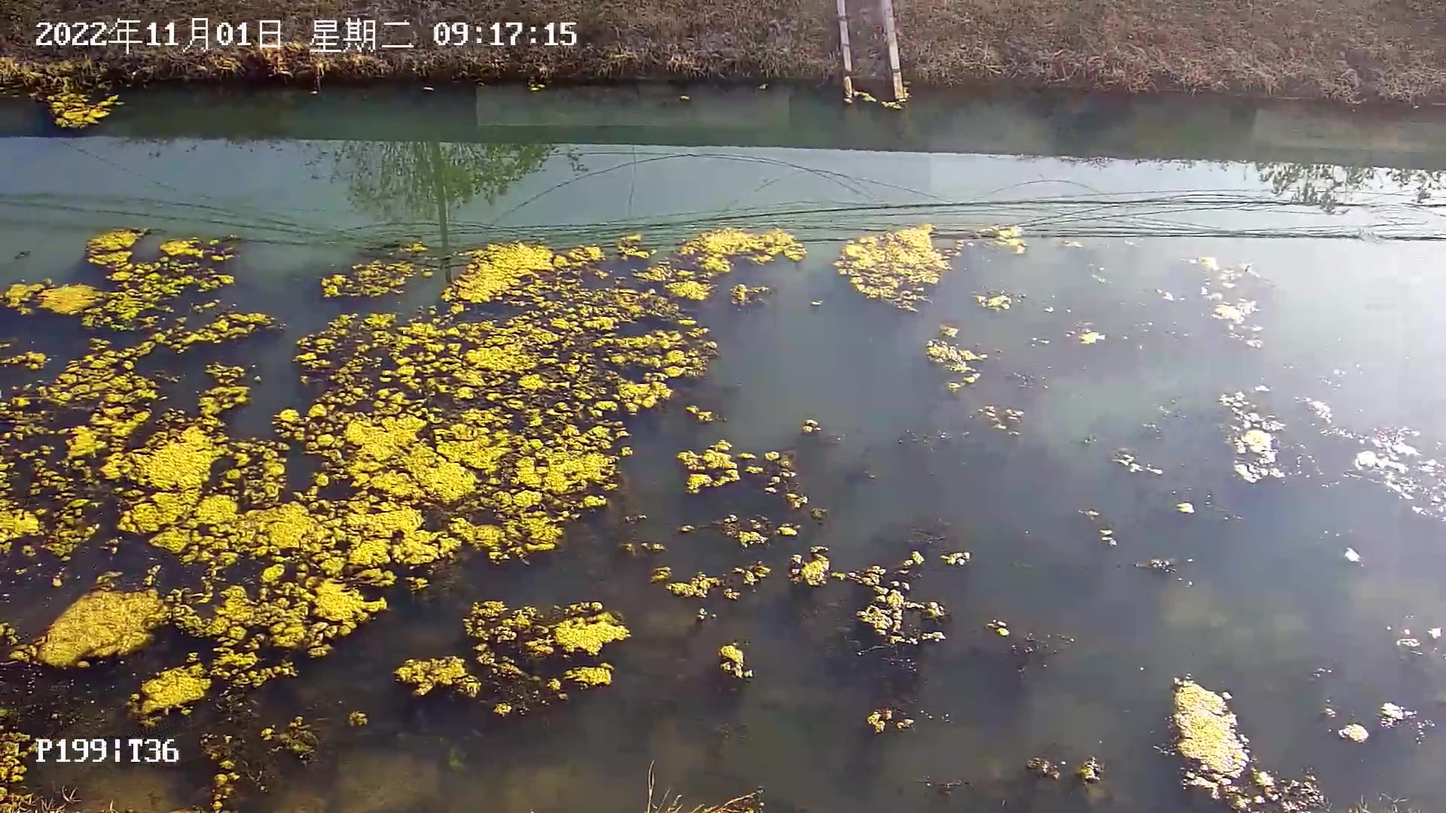floating_object: (1, 227, 321, 811), (297, 228, 712, 639), (391, 595, 631, 719), (1, 226, 239, 332), (1304, 393, 1446, 510), (832, 547, 972, 647), (638, 511, 776, 611), (655, 224, 804, 313), (1165, 671, 1254, 813), (37, 585, 170, 671), (834, 221, 950, 313), (1191, 251, 1278, 354), (1218, 381, 1292, 486), (923, 323, 994, 398), (128, 664, 210, 728), (676, 436, 740, 495), (1017, 747, 1105, 788), (786, 540, 830, 593), (981, 222, 1034, 261), (711, 638, 755, 683), (865, 703, 914, 739)
